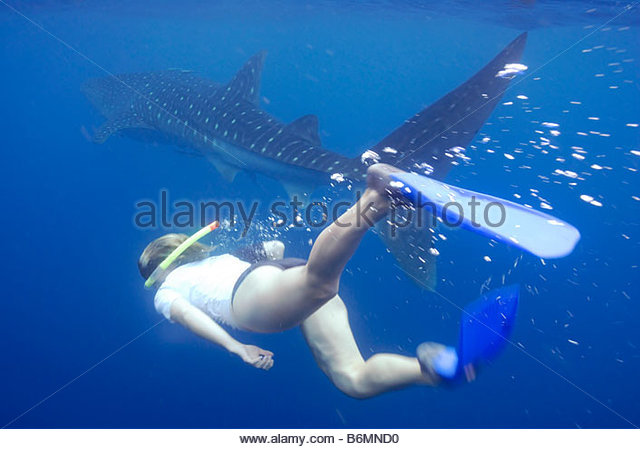Rhincodon_typusw: (69, 39, 550, 190)
